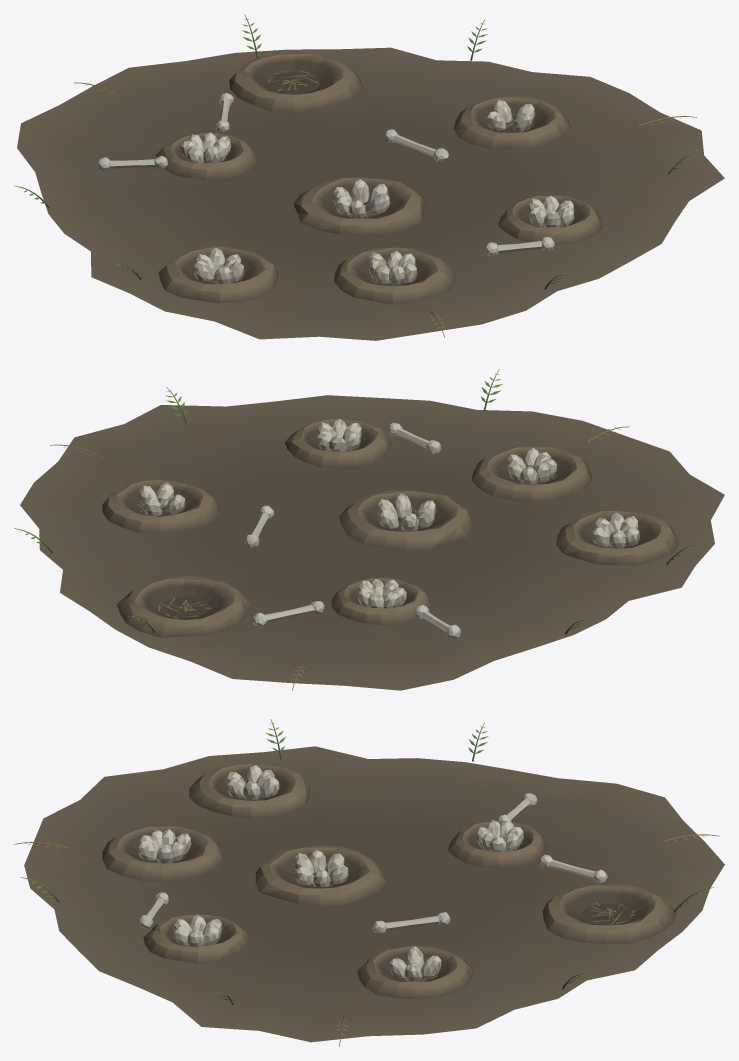
File: nest_coelophysis_a.glb
3 views of the same model, one above another, from view 1: azimuth 30°, elevation 25°; view 2: azimuth 150°, elevation 25°; view 3: azimuth 270°, elevation 25° (orthographic).
Parts seen in each view (by area): view 1: nest_coelophysis_a; view 2: nest_coelophysis_a; view 3: nest_coelophysis_a.
Boxes of the visible parts, left/top/right/bottom form: nest_coelophysis_a: left=14, top=14, right=724, bottom=340; nest_coelophysis_a: left=14, top=369, right=724, bottom=690; nest_coelophysis_a: left=14, top=719, right=724, bottom=1046.
Bounding box in the file's own units: 3.67 × 0.23 × 3.67.
